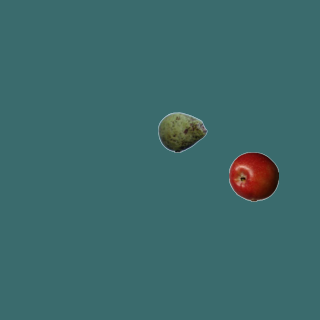Apple Braeburn: (228, 151, 278, 201)
Pear Stone: (157, 107, 207, 157)
